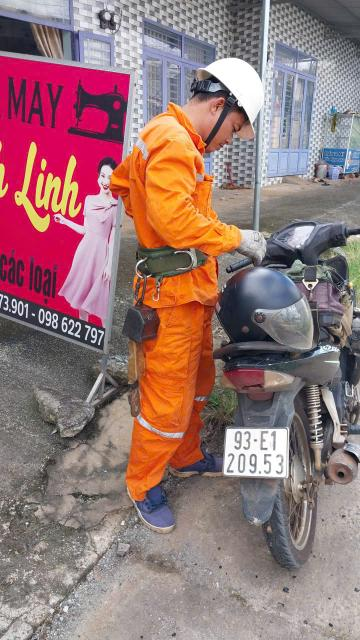gloves: (211, 219, 276, 266)
harness: (109, 225, 222, 288)
helmet: (188, 37, 271, 151)
shoes: (118, 474, 181, 539), (171, 437, 233, 490)
